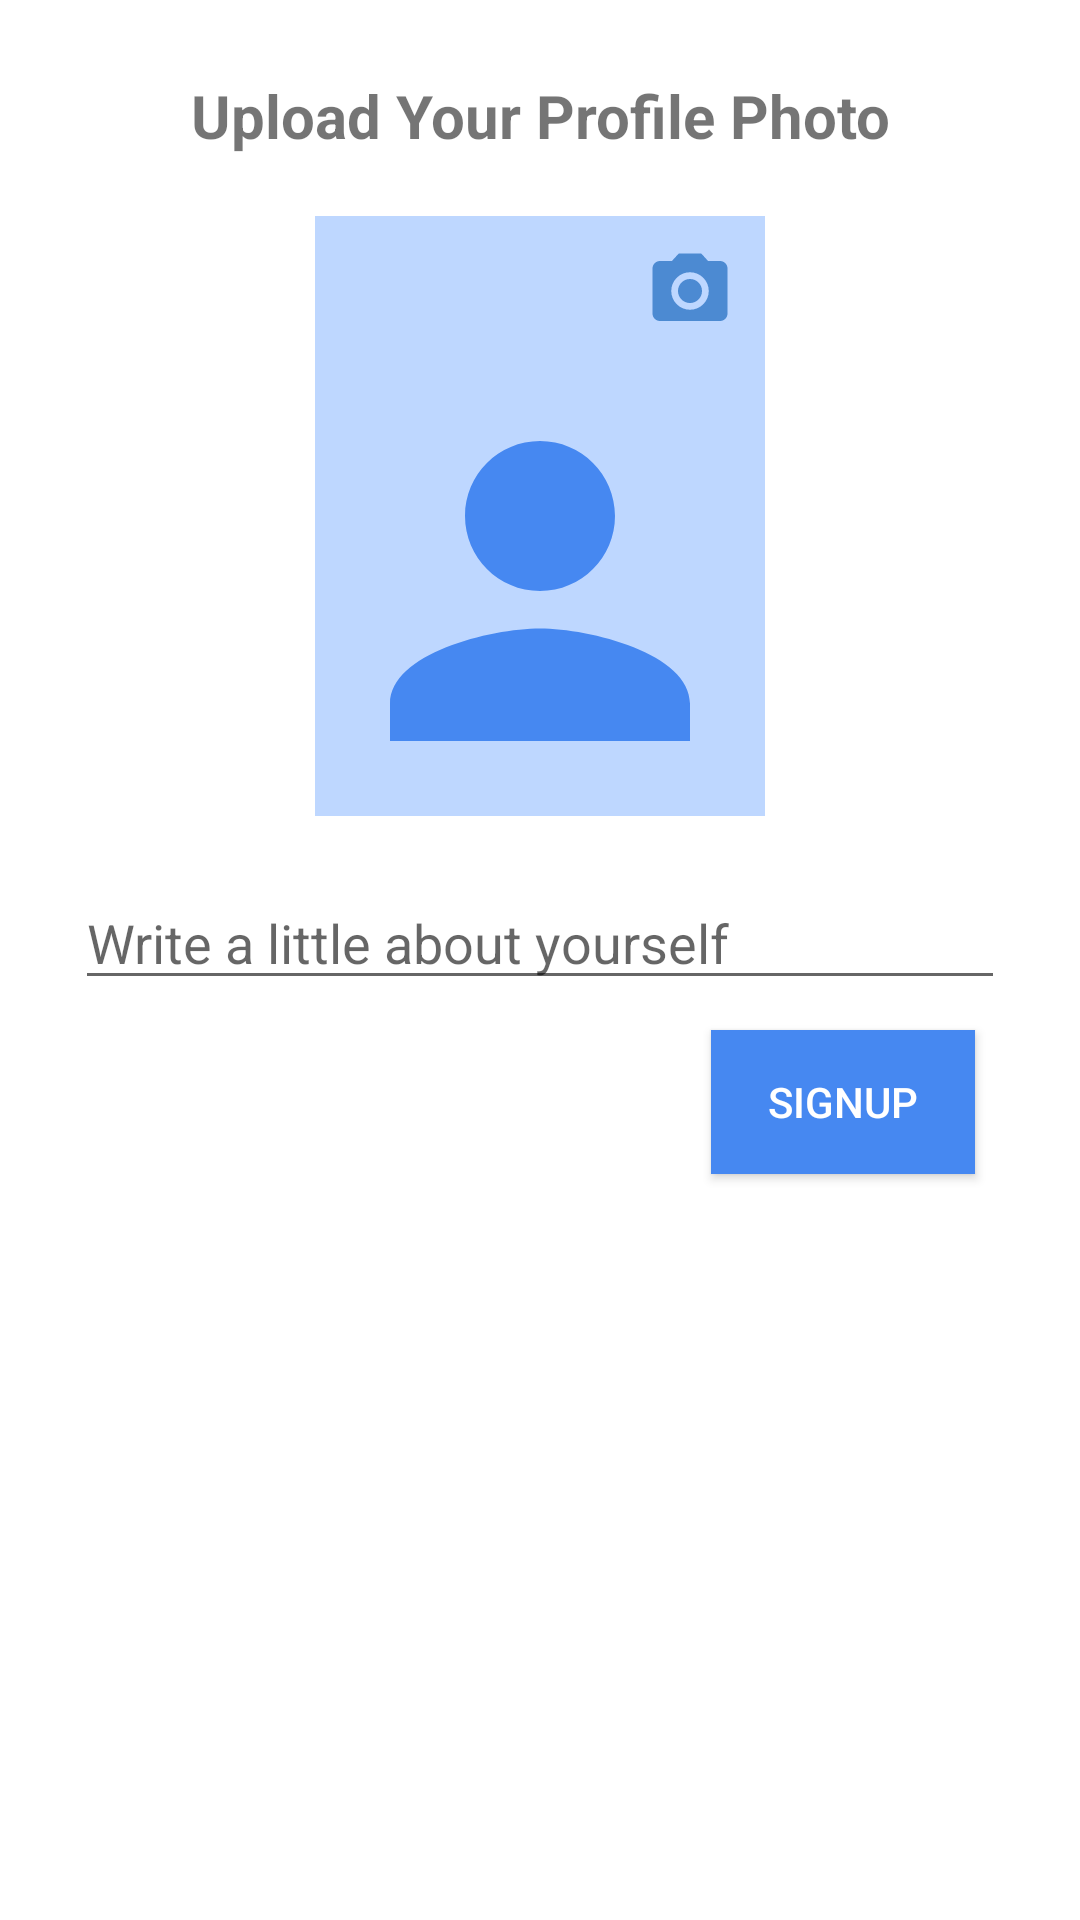

Screen size 1080px x 1920px. Icon name, then its center in pixels as [x,y]:
imc camera: [690,287]
